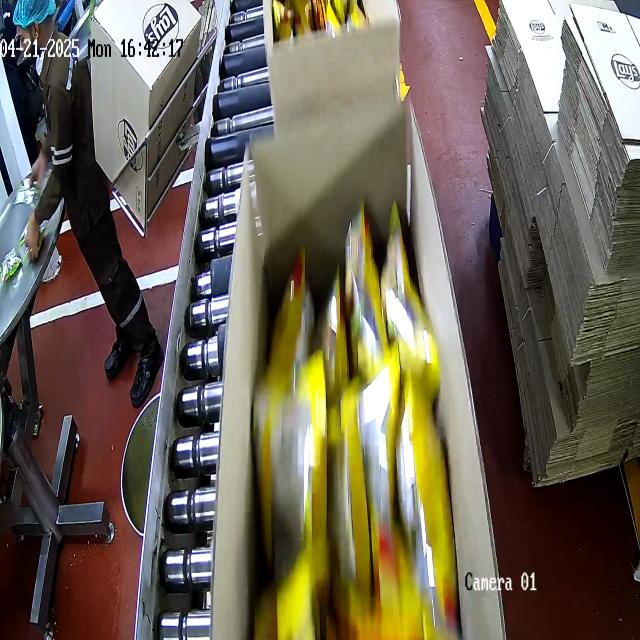SALTED: (256, 216, 466, 640)
